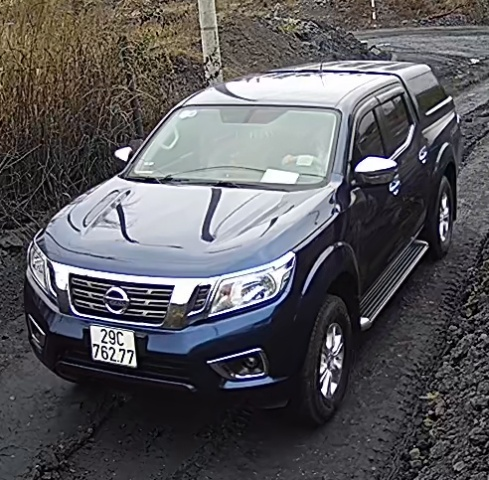vehicle plate: (89, 320, 138, 370)
